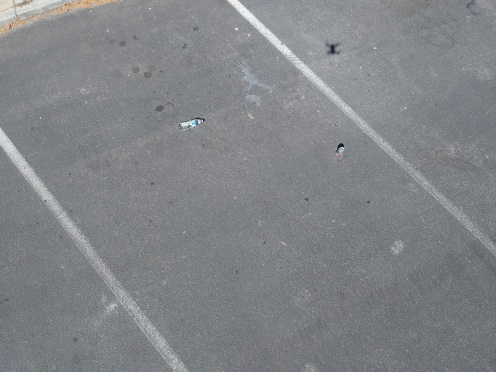bottle: (173, 114, 208, 134)
can: (331, 141, 348, 162)
